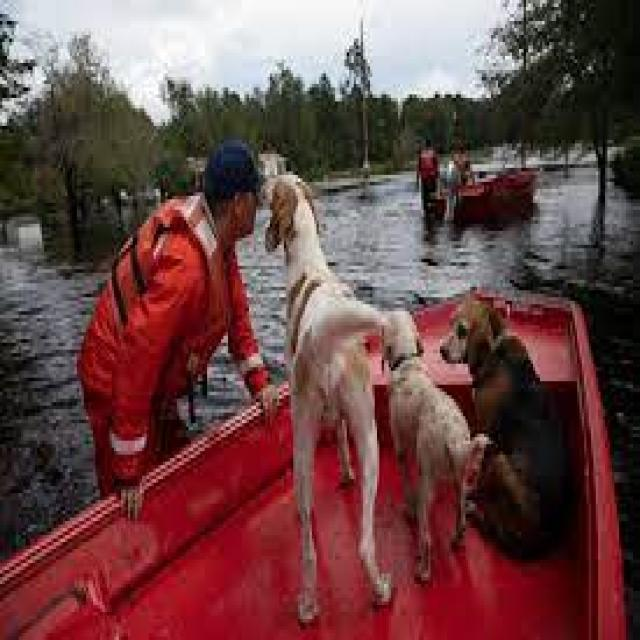rescuer: (77, 146, 270, 490)
